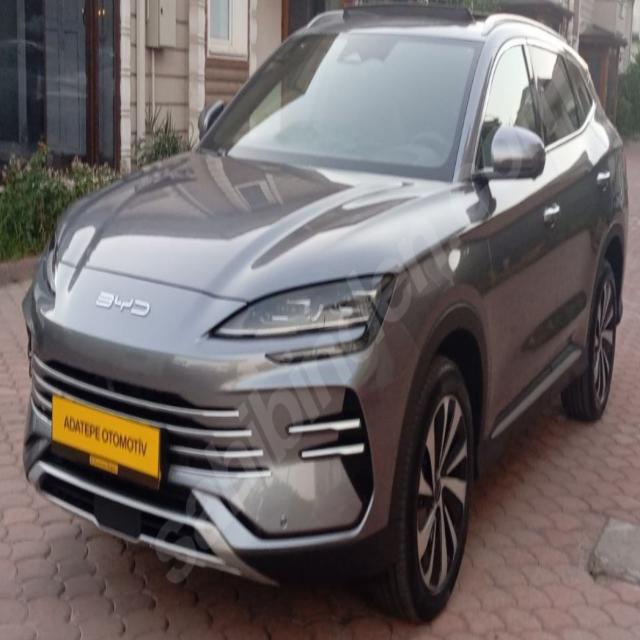byd: (92, 283, 154, 325)
